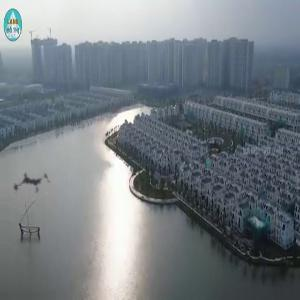drone: (1, 151, 67, 217)
